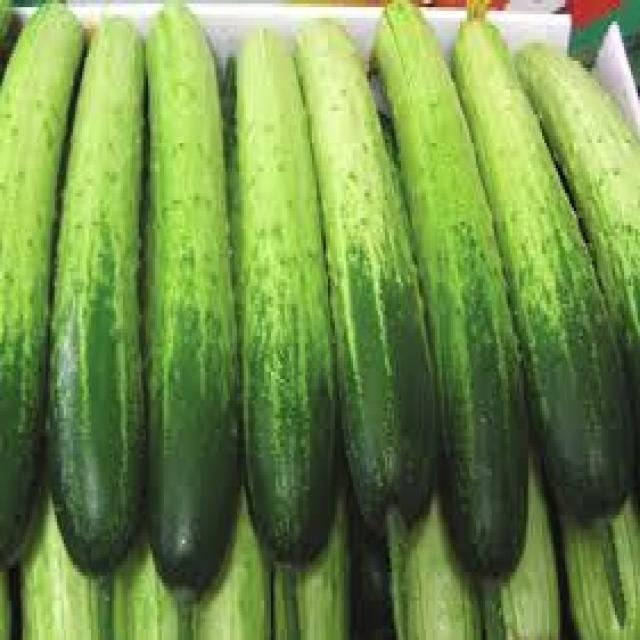Cucumber: (376, 4, 531, 574), (456, 18, 631, 517), (298, 25, 441, 527), (236, 29, 336, 567), (50, 18, 146, 570), (147, 4, 236, 592)
